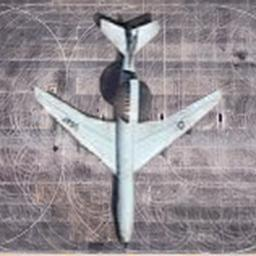Airplane: (31, 10, 225, 247)
